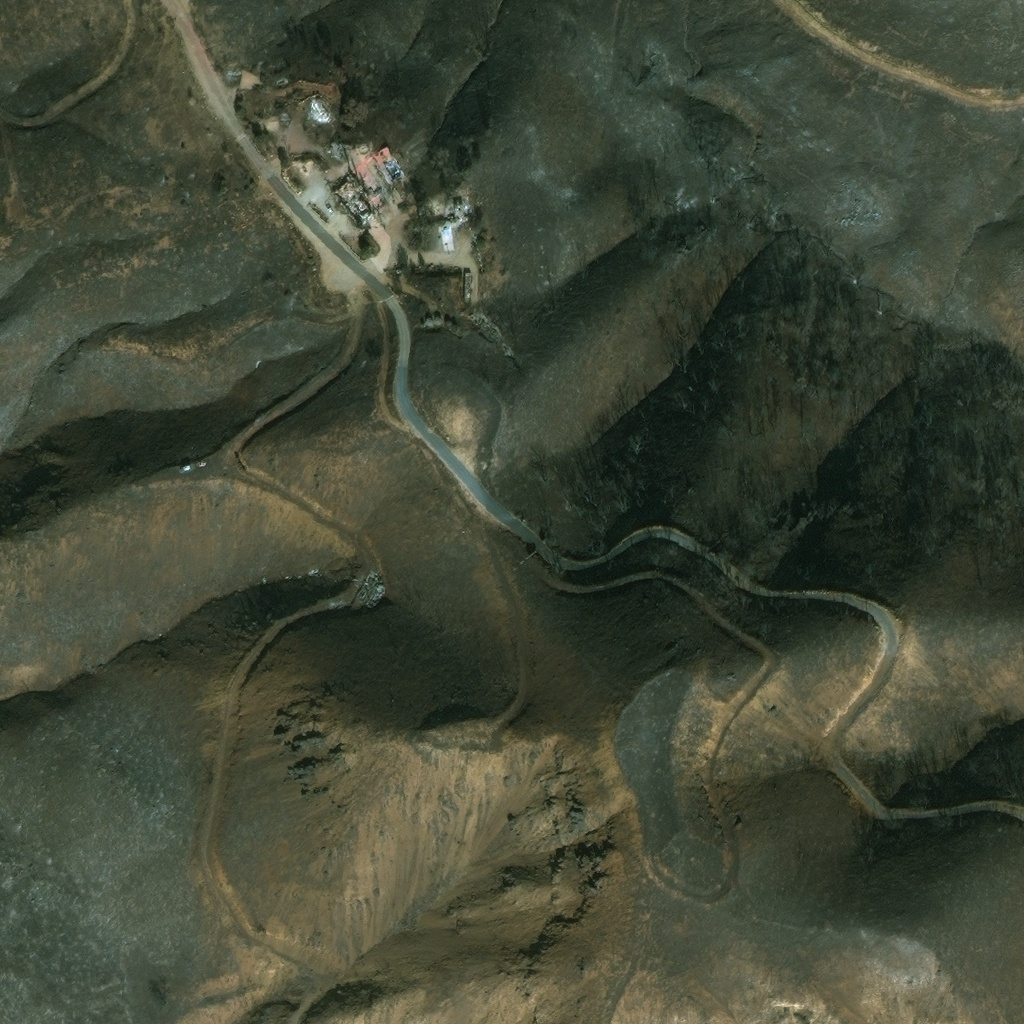2 major-damage: (442, 316, 459, 332), (422, 314, 434, 327), (433, 313, 443, 323)
3 destroyed: (329, 168, 380, 227), (353, 570, 385, 605), (435, 217, 455, 249), (475, 313, 500, 337), (447, 198, 475, 219), (371, 143, 392, 162), (333, 133, 348, 156), (311, 93, 327, 113), (461, 270, 470, 300), (459, 186, 468, 196), (326, 278, 333, 286)
